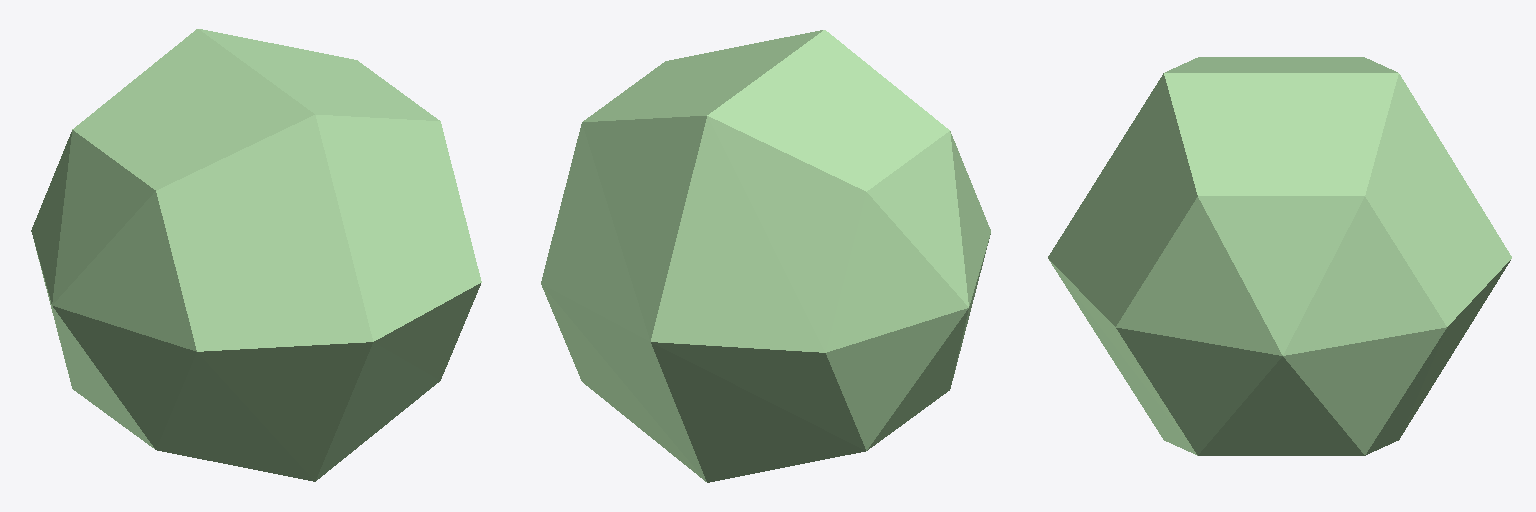
3 renders of one model, left to right at view 1: azimuth 30°, elevation 25°; view 2: azimuth 150°, elevation 25°; view 3: azimuth 270°, elevation 25°, orthographic.
Visible parts, largest first — view 1: frogger_croak_ball; view 2: frogger_croak_ball; view 3: frogger_croak_ball.
Boxes of the visible parts, x1,y1,x2,y2 form: frogger_croak_ball: [31, 29, 481, 481]; frogger_croak_ball: [541, 30, 990, 482]; frogger_croak_ball: [1048, 57, 1511, 455].
Size of the model in its own units: 10.31 by 8.94 by 10.25.
1 materials, 1 textured.